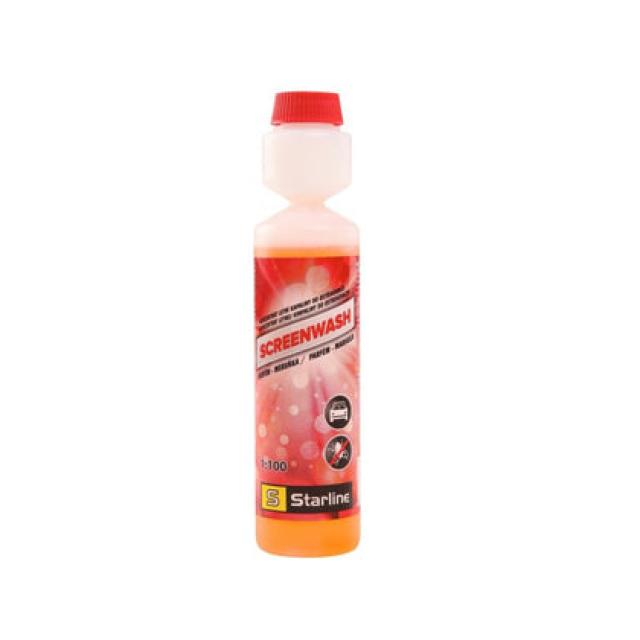winwinshield_washer: (250, 86, 368, 562)
